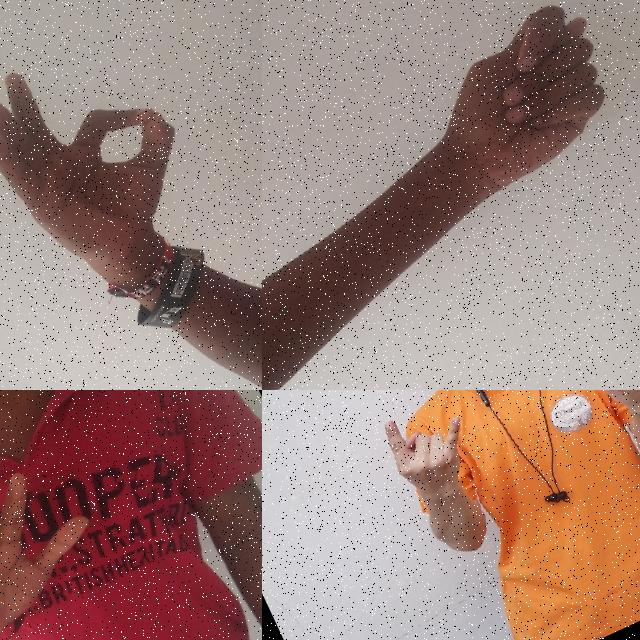Corna: (361, 390, 494, 524), (549, 390, 640, 438)
Dulya: (390, 0, 640, 229)
Moutza: (0, 444, 127, 640)
Okay: (0, 10, 245, 339)
